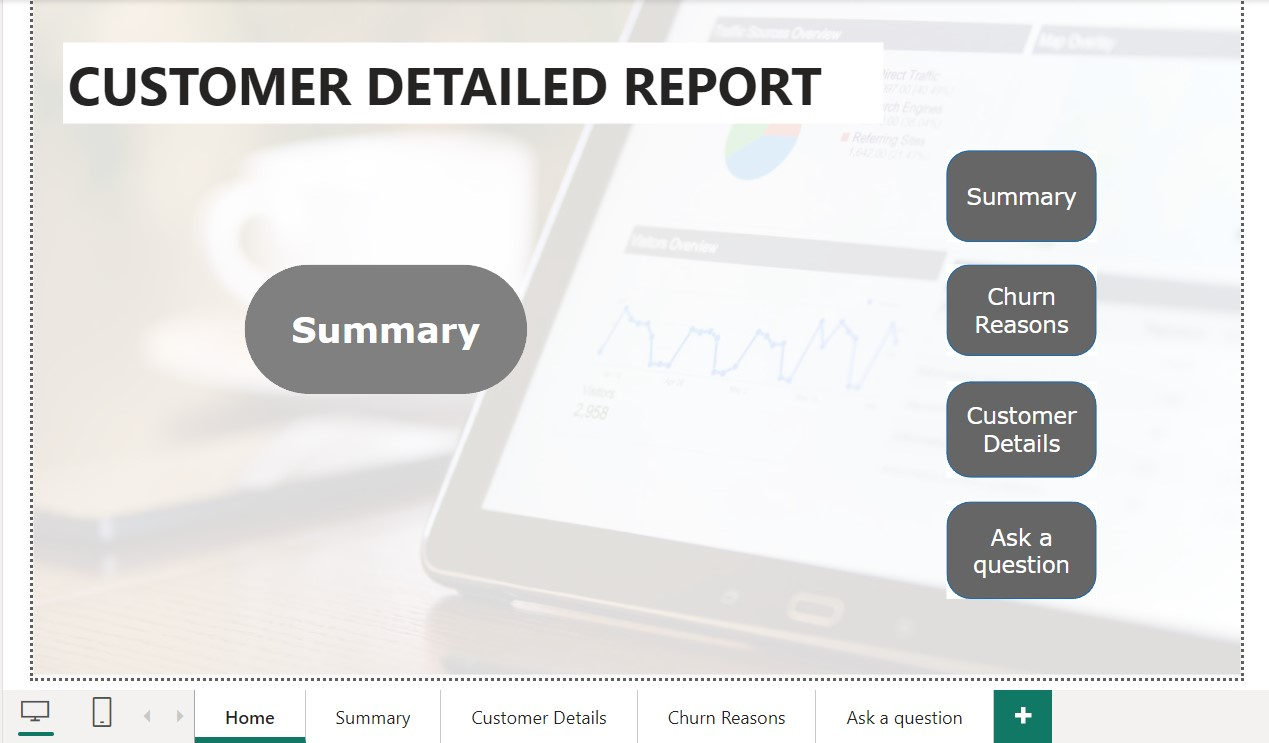

Layout of this report page (visuals, bound fields, positions):
{"tool":"powerbi","page":{"name":"Home","canvas":[1280,720],"ordinal":0},"visuals":[{"type":"shape","box":[938.7,151.5,159.3,96.8],"z":0},{"type":"shape","box":[938.7,378,159.3,103.1],"z":1000},{"type":"shape","box":[938.7,262.4,159.3,96.8],"z":2000},{"type":"shape","box":[938.7,498.2,159.3,103.1],"z":3000},{"type":"shape","box":[224.9,281.1,299.9,137.4],"z":4000}]}

Visuals, with their boxes on the page's 1280x720 design canvas (x1, y1, x2, y2). These are canvas units, not pixel positions in the 1269x743 screenshot, which may show the page scaled, cropped or inside an application window:
shape: (left=939, top=152, right=1098, bottom=248)
shape: (left=939, top=378, right=1098, bottom=481)
shape: (left=939, top=262, right=1098, bottom=359)
shape: (left=939, top=498, right=1098, bottom=601)
shape: (left=225, top=281, right=525, bottom=418)
